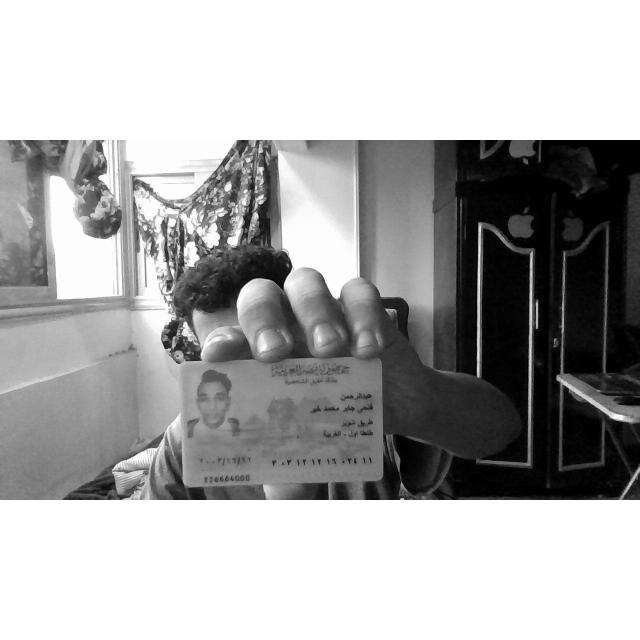front: (180, 357, 384, 488)
